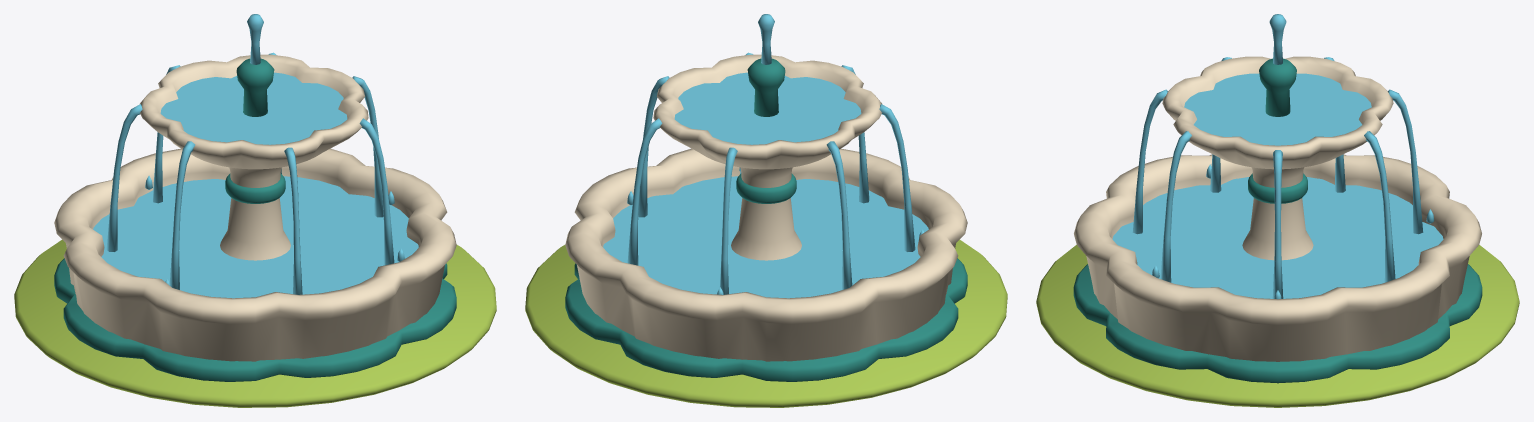
Rendered from fountain.glb.
The picture shows the model from 3 angles, left to right: view 1: azimuth 30°, elevation 25°; view 2: azimuth 150°, elevation 25°; view 3: azimuth 270°, elevation 25°; orthographic projection.
Parts seen in each view (by area): view 1: body, water, base_disc; view 2: body, water, base_disc; view 3: body, water, base_disc.
Part boxes in pixels (x1,y1,x2,y2): body: (54,54,456,381); water: (93,14,418,298); base_disc: (14,239,496,407); body: (565,54,967,381); water: (603,14,928,298); base_disc: (525,239,1007,407); body: (1073,56,1482,383); water: (1112,14,1443,299); base_disc: (1036,245,1519,407).
Size of the model in its own units: 1.9 by 1.27 by 1.9.
